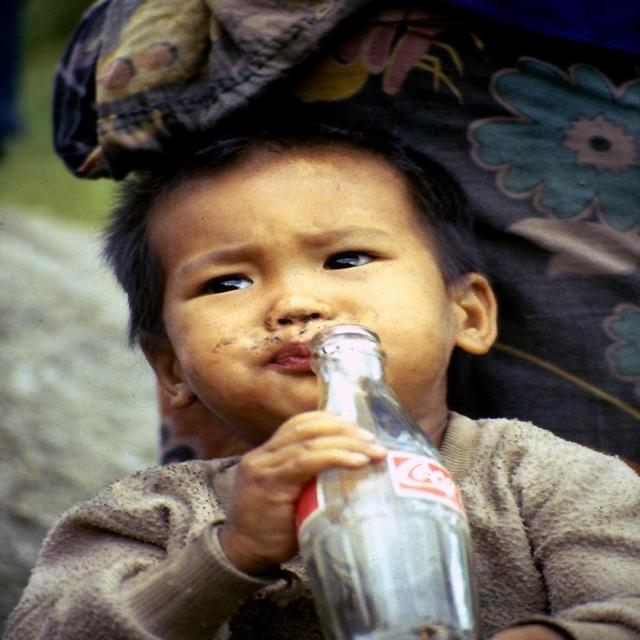no-glass: (175, 249, 398, 311)
